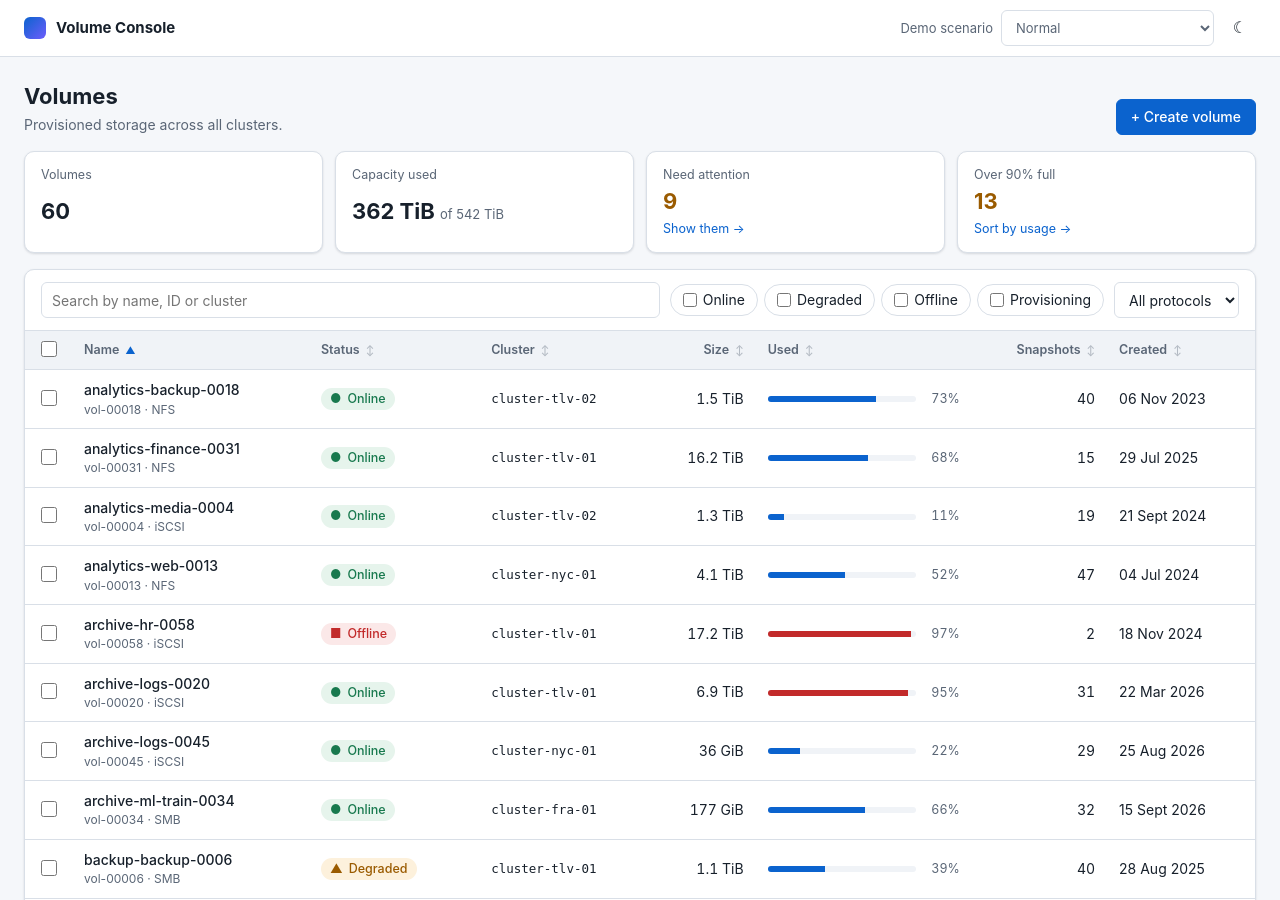
Volume Console › shows a no-results state that can clear the filters
Later steps or results of the test are not shown.
Type "zzz-no-such-volume" into the search field named "search volumes" at [350, 300], box x1=41 y1=282 x2=660 y2=318
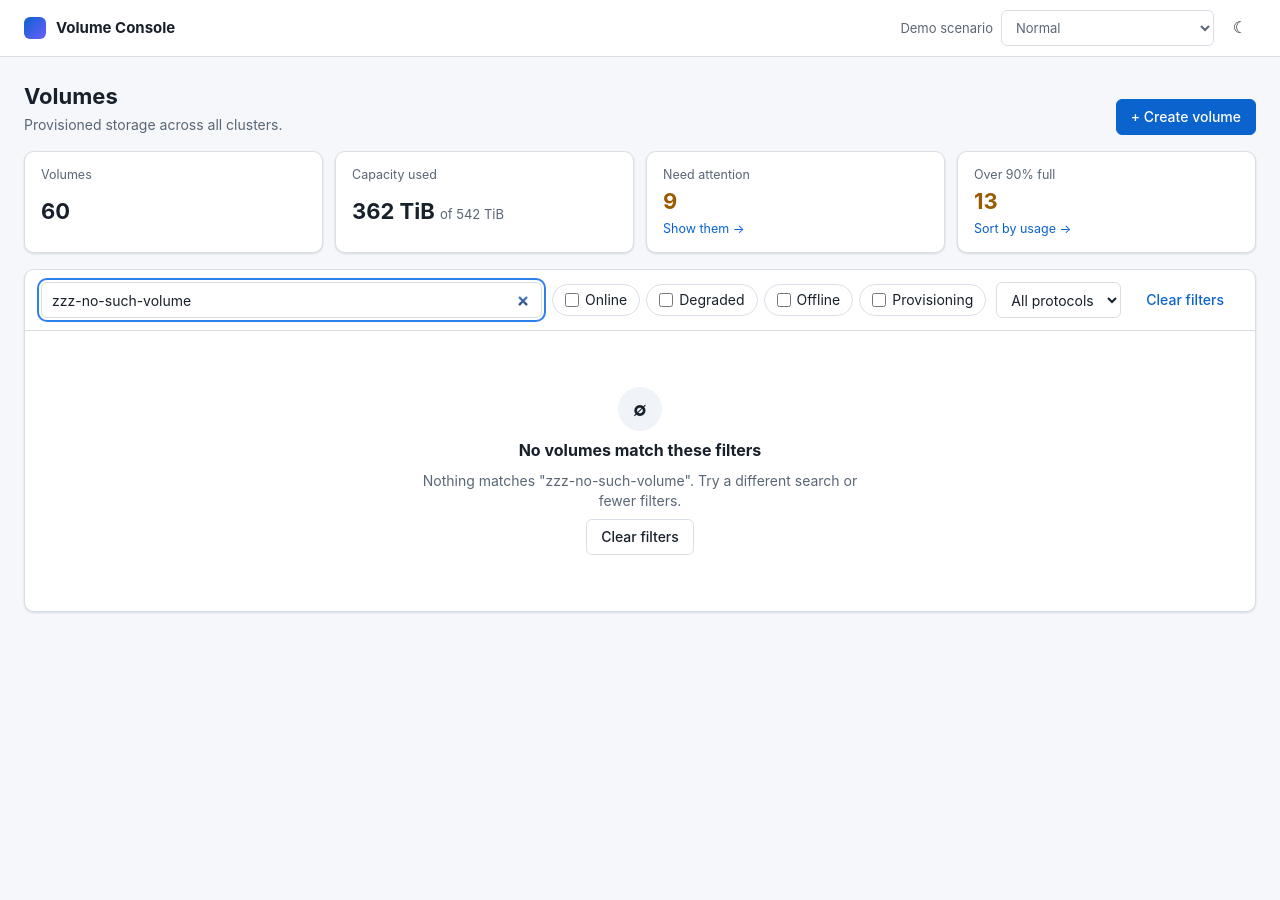
Now the heading "No volumes match these filters" is shown, box x1=519 y1=439 x2=761 y2=462
